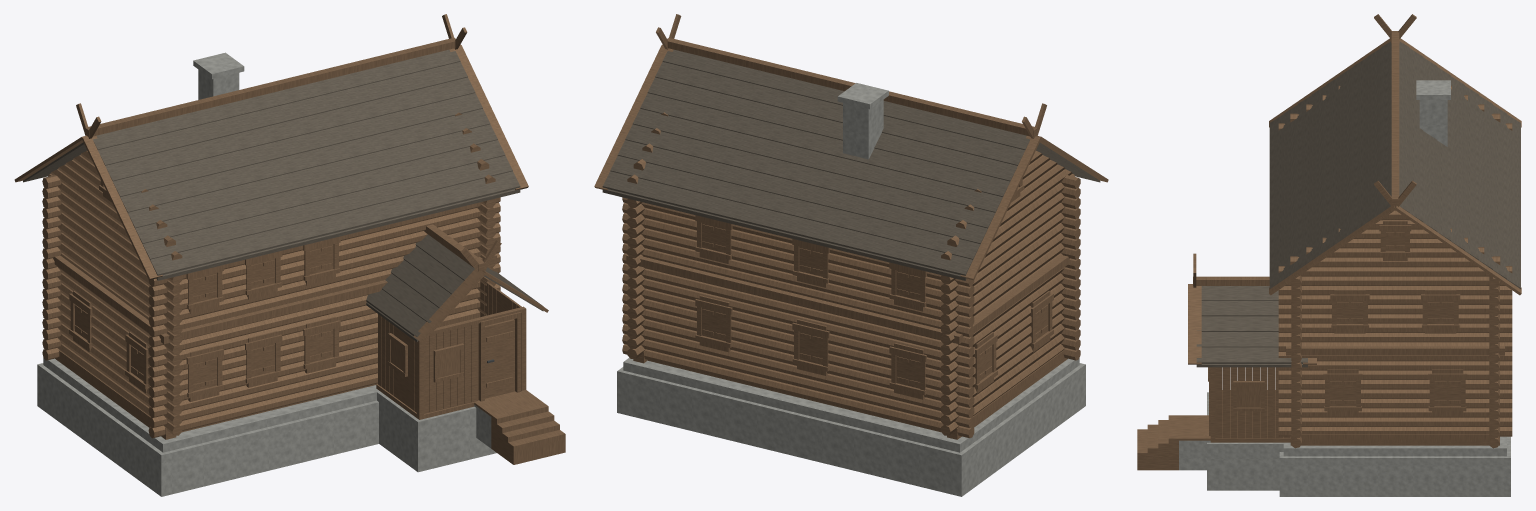
The picture shows the model from 3 angles, left to right: view 1: azimuth 30°, elevation 25°; view 2: azimuth 150°, elevation 25°; view 3: azimuth 270°, elevation 25°; orthographic projection. The views are drawn at different scales.
Visible parts, largest first — view 1: T5_roof, T5_shell, T5_foundation, T5_frame, T5_gable, T5_veranda_wall, T5_shutter, T5_entry_step, T5_entry_leaf0, T5_chimney, T5_veranda.001, T5_porch (+2 smaller); view 2: T5_roof, T5_shell, T5_foundation, T5_frame, T5_gable, T5_shutter, T5_chimney, T5_floor; view 3: T5_roof, T5_gable, T5_foundation, T5_frame, T5_shell, T5_veranda_wall, T5_shutter, T5_entry_step, T5_chimney, T5_floor, T5_porch, T5_veranda (+1 smaller).
Boxes of the visible parts, bbox=[...] form: T5_roof: bbox=[23, 49, 543, 341]; T5_shell: bbox=[42, 175, 500, 439]; T5_foundation: bbox=[37, 358, 496, 496]; T5_frame: bbox=[14, 14, 548, 401]; T5_gable: bbox=[48, 112, 495, 435]; T5_veranda_wall: bbox=[378, 279, 521, 413]; T5_shutter: bbox=[74, 244, 460, 390]; T5_entry_step: bbox=[491, 402, 565, 464]; T5_entry_leaf0: bbox=[485, 319, 514, 398]; T5_chimney: bbox=[193, 52, 244, 99]; T5_veranda.001: bbox=[416, 306, 526, 415]; T5_porch: bbox=[474, 390, 542, 416]; T5_roof: bbox=[602, 49, 1100, 280]; T5_shell: bbox=[622, 175, 1080, 439]; T5_foundation: bbox=[617, 357, 1085, 496]; T5_frame: bbox=[594, 14, 1108, 399]; T5_gable: bbox=[627, 112, 1074, 435]; T5_shutter: bbox=[702, 223, 1048, 388]; T5_chimney: bbox=[837, 83, 888, 159]; T5_floor: bbox=[647, 357, 1065, 432]; T5_roof: bbox=[1196, 41, 1520, 367]; T5_gable: bbox=[1278, 85, 1512, 436]; T5_foundation: bbox=[1179, 392, 1510, 496]; T5_frame: bbox=[1188, 14, 1521, 435]; T5_shell: bbox=[1290, 275, 1499, 448]; T5_veranda_wall: bbox=[1215, 367, 1290, 438]; T5_shutter: bbox=[1236, 231, 1460, 407]; T5_entry_step: bbox=[1137, 415, 1178, 470]; T5_chimney: bbox=[1416, 80, 1450, 146]; T5_floor: bbox=[1301, 441, 1489, 445]; T5_porch: bbox=[1179, 415, 1210, 440]; T5_veranda: bbox=[1210, 390, 1290, 442].
Bounding box in the file's own units: 11.7 × 10.15 × 11.02.
4 materials, 3 textured.
